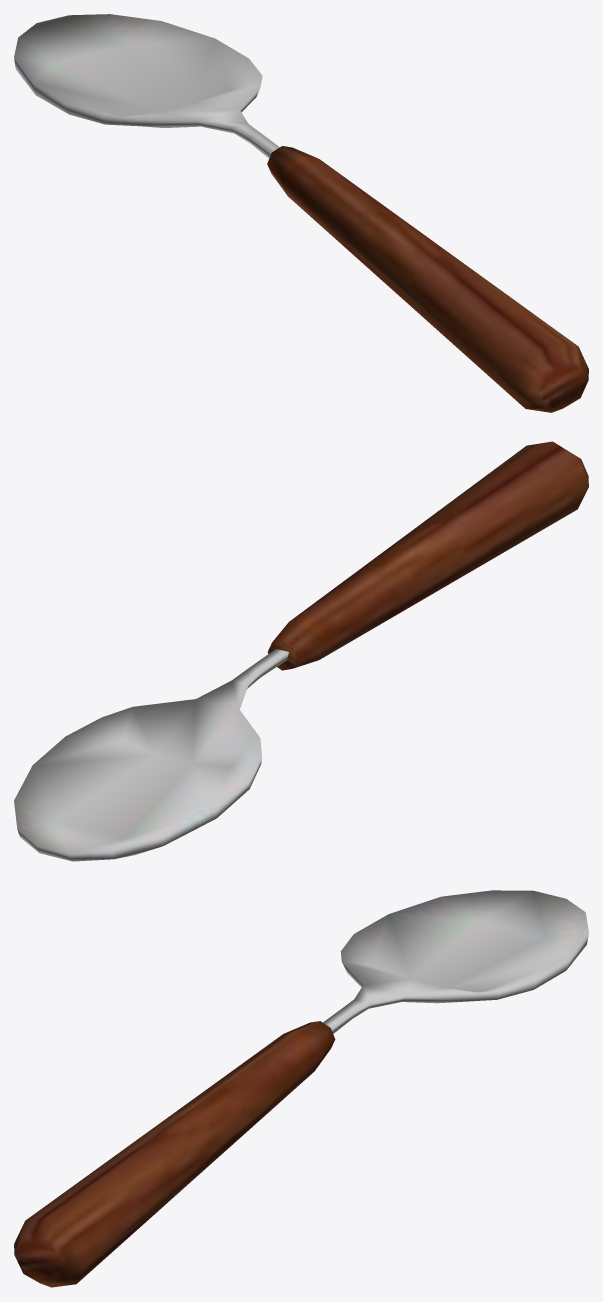
File: M_Sendok.fbx
The picture shows the model from 3 angles, top to bottom: view 1: azimuth 30°, elevation 25°; view 2: azimuth 150°, elevation 25°; view 3: azimuth 330°, elevation 25°; orthographic projection.
Visible parts, largest first — view 1: SM_Spoon; view 2: SM_Spoon; view 3: SM_Spoon.
Part boxes in pixels (bbox=[...]): SM_Spoon: bbox=[14, 14, 588, 412]; SM_Spoon: bbox=[14, 441, 588, 861]; SM_Spoon: bbox=[14, 890, 588, 1287].
Size of the model in its own units: 4.12 by 1.61 by 19.84.
